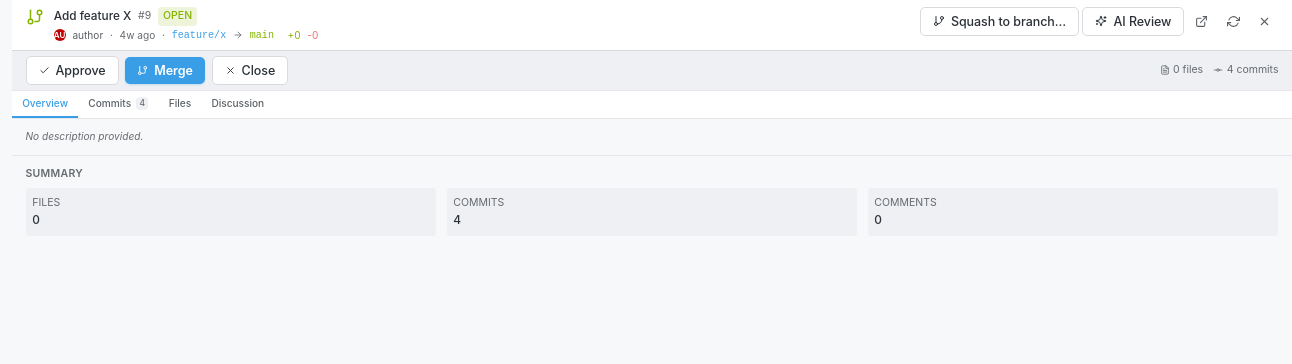
Test: PRReview — Commits tab group squash-to-branch › plain click resets the group and keeps the single-commit diff view
This screenshot has width=1292, height=364.
Click the button "Commits 4".
click(118, 104)  # box x1=78 y1=91 x2=158 y2=118
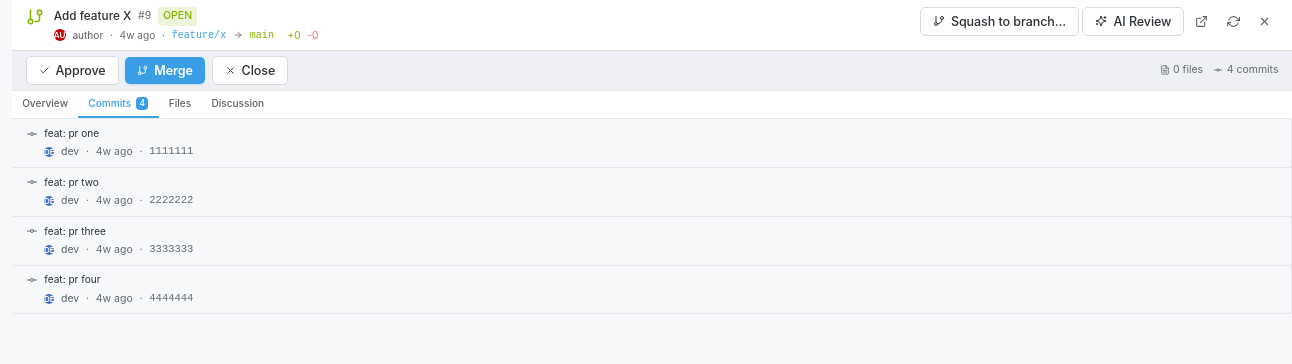
Result: the text "feat: pr one" is shown
Click the text "feat: pr one".
click(72, 133)  # box x1=44 y1=127 x2=99 y2=139
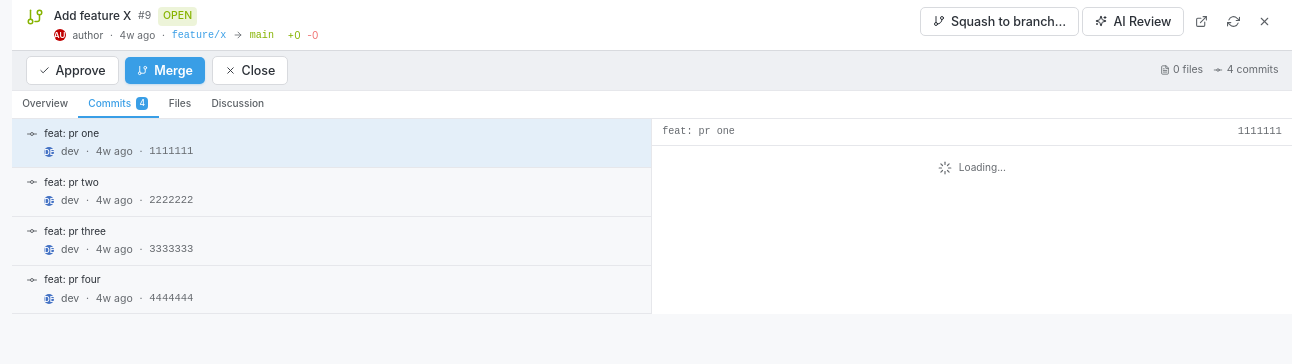
Click the text "feat: pr three".
click(75, 230)  # box x1=44 y1=224 x2=106 y2=236
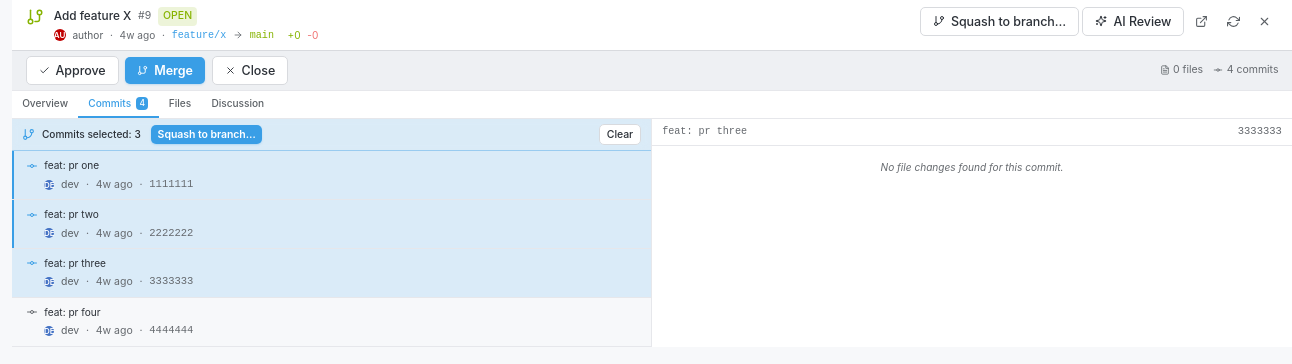
Result: the text "Commits selected: 3" is shown at x1=42 y1=127 x2=141 y2=142
Click the text "feat: pr four".
click(72, 312)  # box x1=44 y1=306 x2=101 y2=318
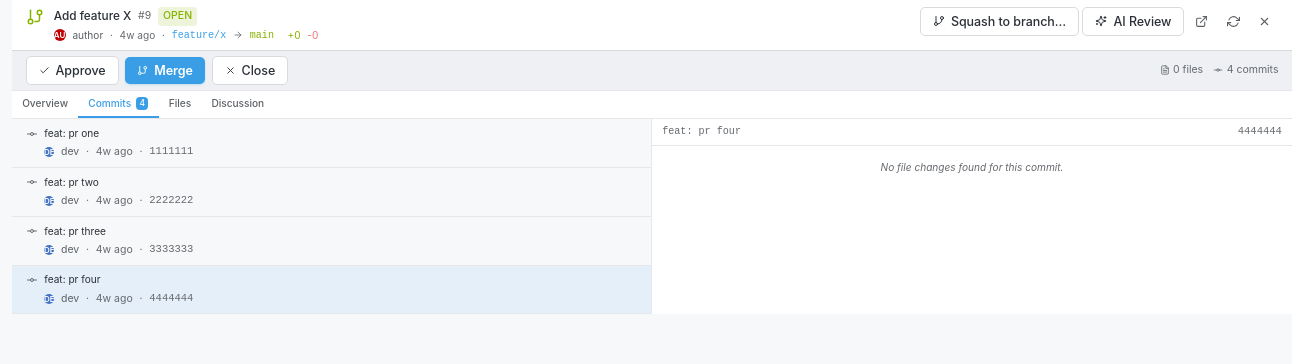
Result: the text "Commits selected: 3" is gone
